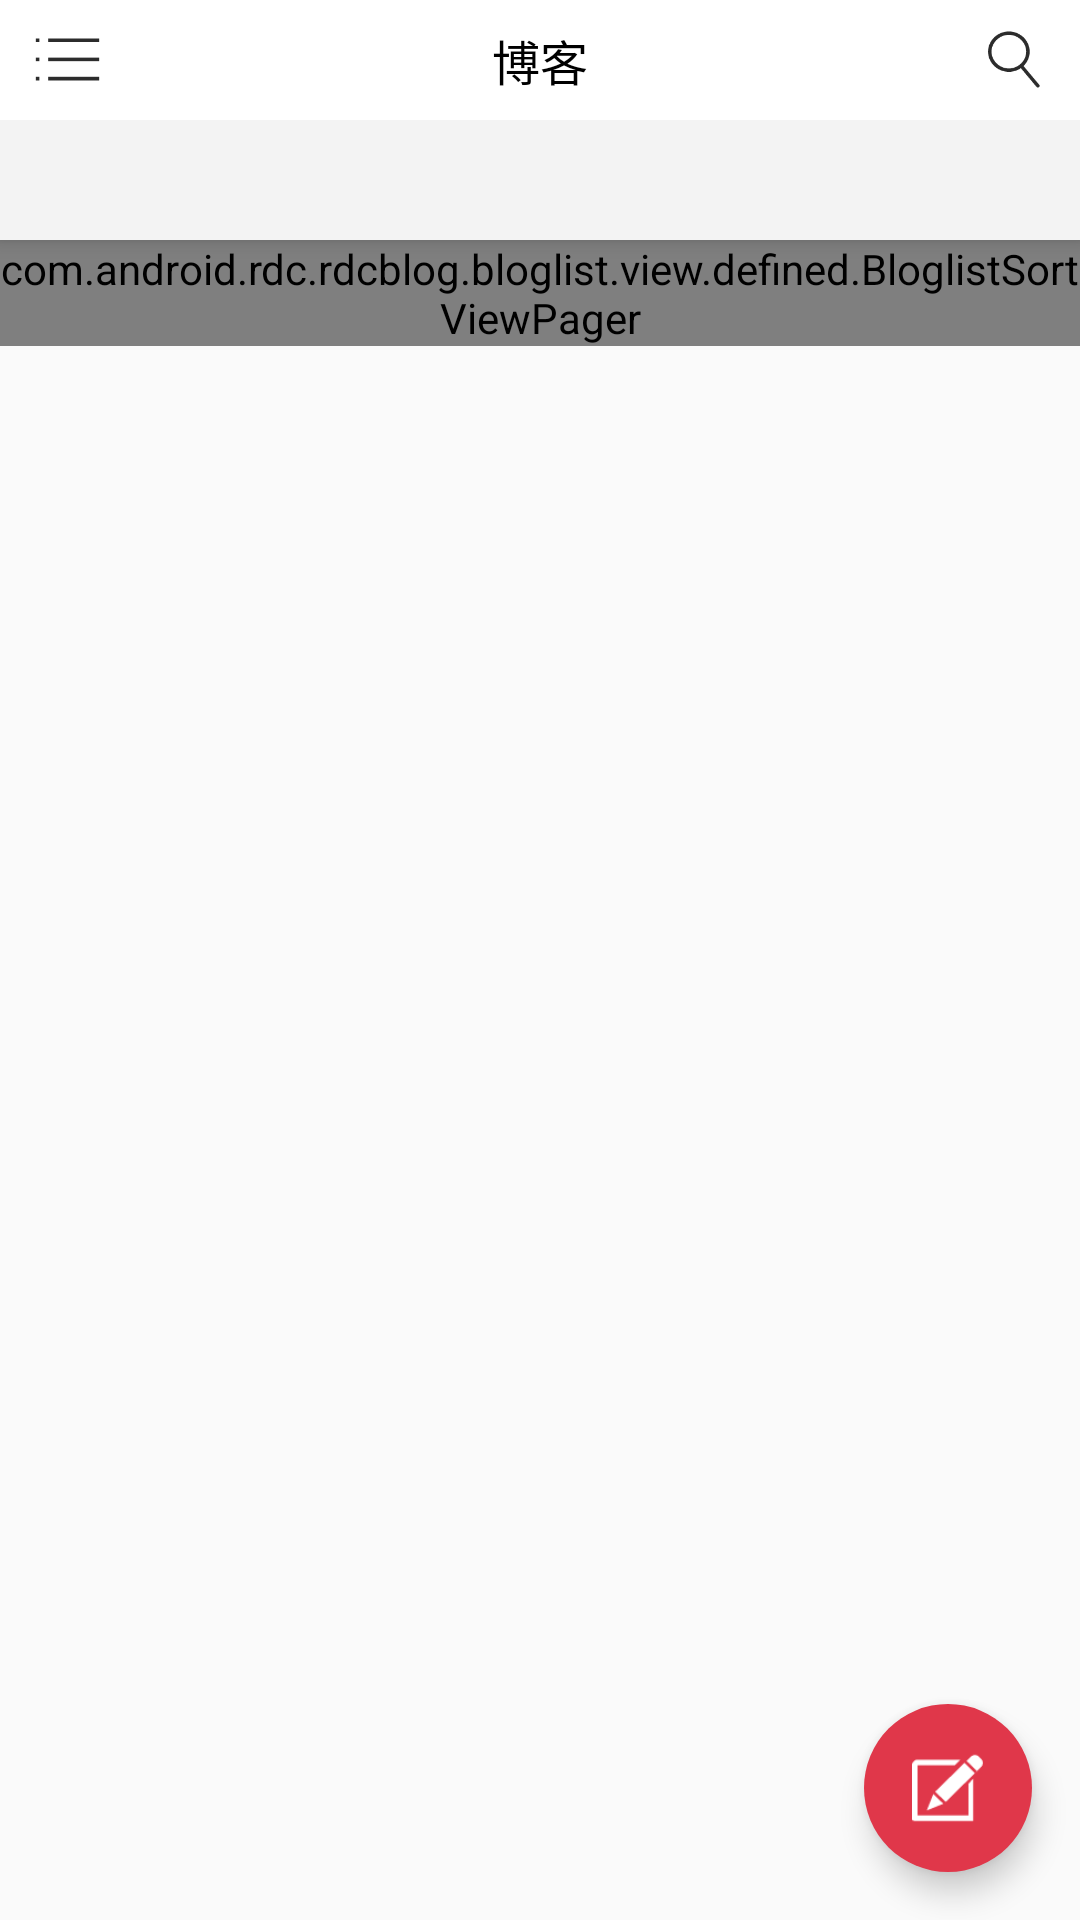

Screen size 1080px×1920px. Icon name, then its center in pixels as point (x, y):
bloglist menu: point (67, 59)
bloglist search: point (1014, 59)
bloglist writeblog: point (948, 1788)
